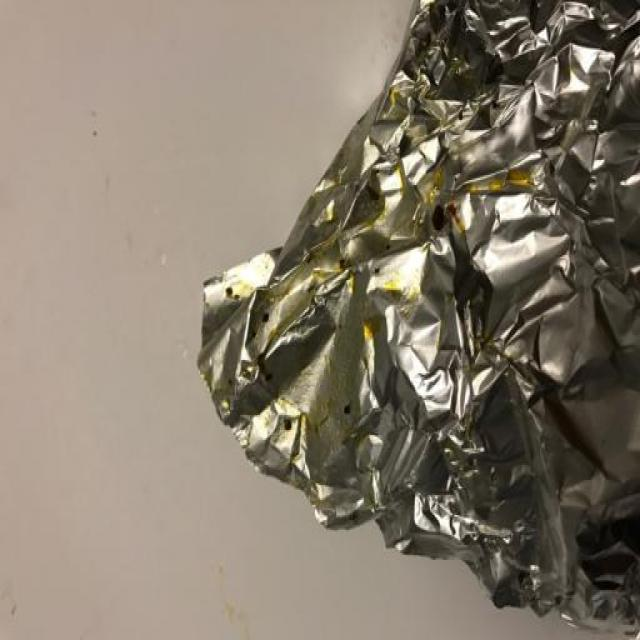others: (102, 1, 640, 631)
